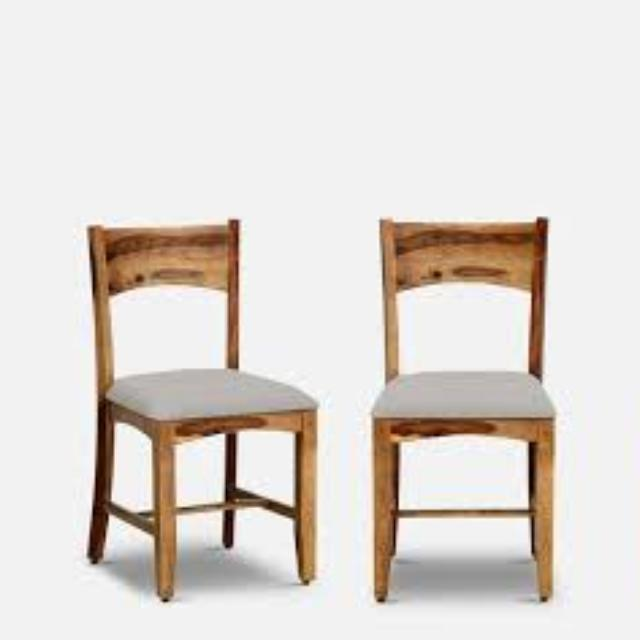obstacle: (59, 133, 322, 640), (341, 168, 585, 638), (634, 168, 640, 638)
